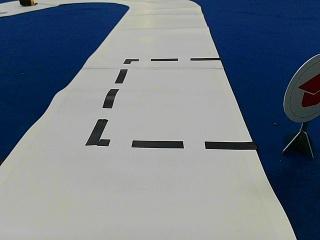school: (284, 55, 318, 121)
